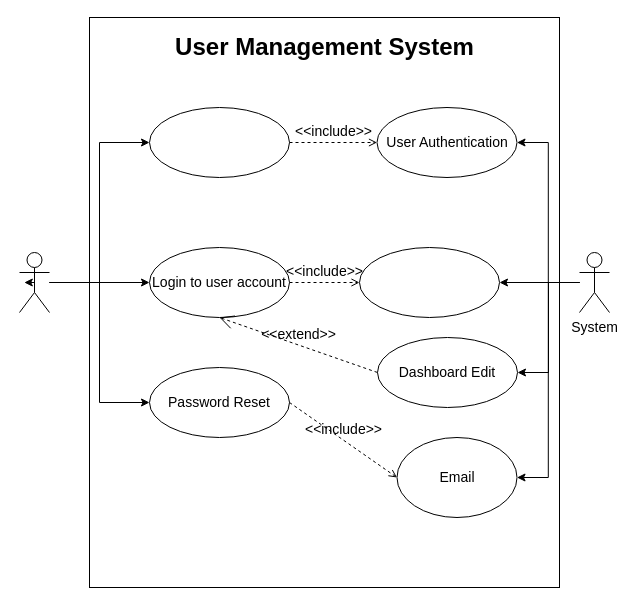
This 636x605 diagram has some shape labels left out. The shapes that lost their labels are listed below. From the top down, each one's box as (x1, y1, x2, y2) in pixels, then its label:
(148, 106, 290, 178): Create a new user account
(18, 252, 50, 312): User
(358, 246, 500, 318): User Verification
